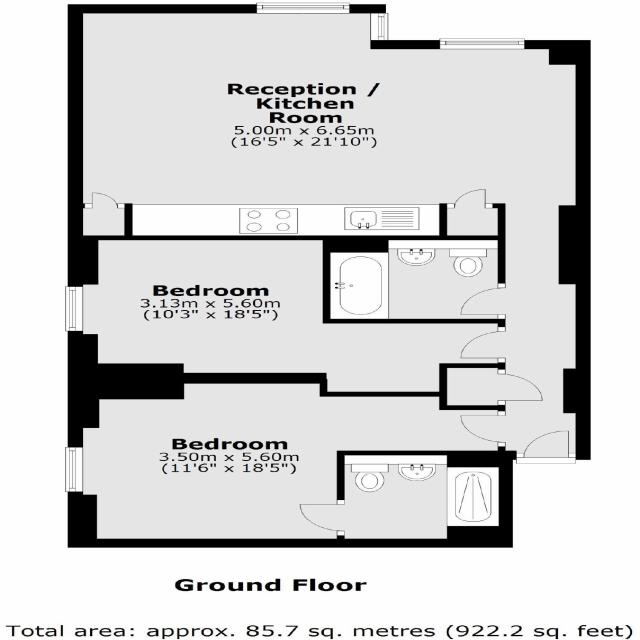DOOR: (514, 428, 576, 464), (457, 282, 506, 320), (456, 410, 506, 447), (297, 499, 346, 536), (458, 326, 506, 363), (497, 368, 544, 405)
ROOM: (67, 3, 592, 464), (67, 363, 507, 548), (67, 235, 506, 399)
WINDOW: (254, 1, 352, 15), (437, 37, 526, 50), (63, 446, 85, 493), (64, 285, 85, 333), (368, 11, 390, 43)
